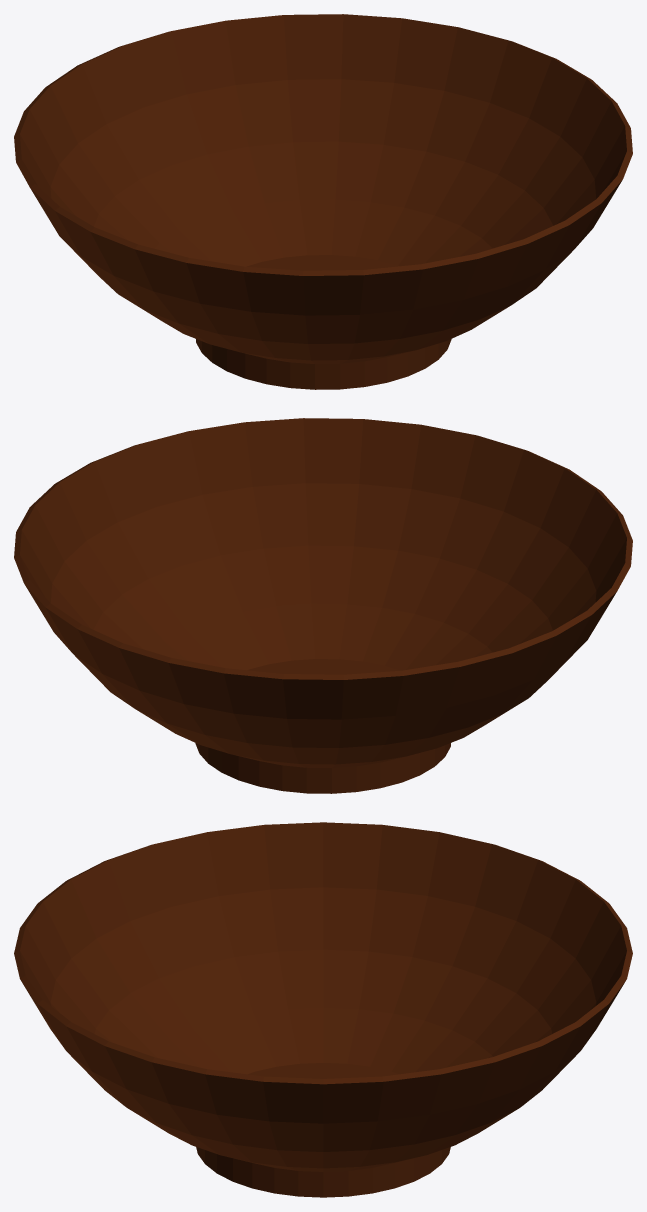
Rendered from bowl.fbx.
The picture shows the model from 3 angles, top to bottom: view 1: azimuth 30°, elevation 25°; view 2: azimuth 150°, elevation 25°; view 3: azimuth 270°, elevation 25°; orthographic projection.
Visible parts, largest first — view 1: Bowl; view 2: Bowl; view 3: Bowl.
Boxes of the visible parts, <box> form: Bowl: <box>14,14,632,389</box>; Bowl: <box>14,418,632,793</box>; Bowl: <box>14,822,632,1197</box>.
Size of the model in its own units: 185 by 63.5 by 185.
